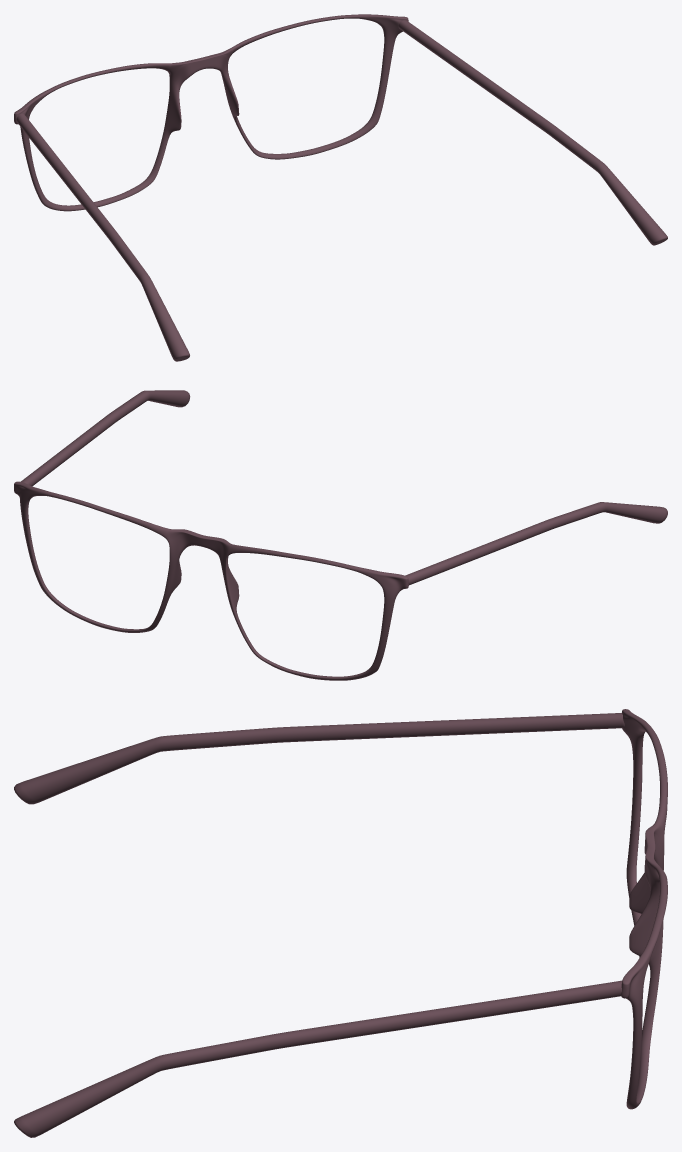
The model's file is gramercy2.fbx.
3 renders of one model, top to bottom at view 1: azimuth 30°, elevation 25°; view 2: azimuth 150°, elevation 25°; view 3: azimuth 270°, elevation 25°, orthographic. The views are drawn at different scales.
Visible parts, largest first — view 1: frame.003, frame.002; view 2: frame.002, frame.003; view 3: frame.003, frame.002.
Boxes of the visible parts, box(x1,y1,x2,y2) form: frame.003: box(16, 20, 667, 361); frame.002: box(14, 14, 408, 211); frame.002: box(14, 481, 408, 680); frame.003: box(21, 390, 667, 585); frame.003: box(14, 713, 624, 1137); frame.002: box(621, 709, 667, 1109).
Size of the model in its own units: 16.59 by 4.1 by 13.32.
